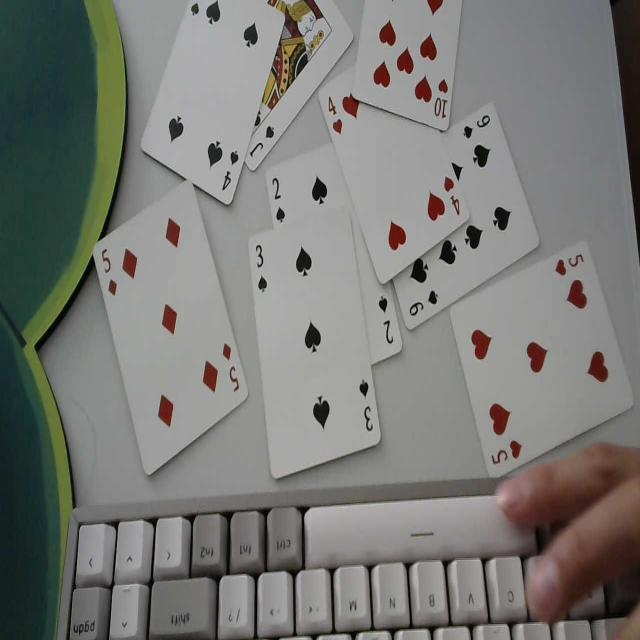10H: (431, 73, 451, 127)
2S: (375, 289, 395, 354), (268, 172, 288, 228)
4H: (442, 168, 464, 220), (324, 92, 344, 138)
4S: (358, 374, 376, 444), (253, 238, 269, 302), (220, 148, 240, 196)
5D: (219, 338, 243, 396), (98, 242, 118, 298)
5H: (487, 435, 527, 472), (553, 244, 585, 279)
9S: (407, 285, 441, 320), (462, 110, 494, 142)
JS: (248, 120, 276, 162)
